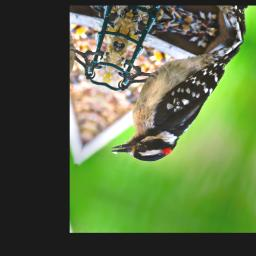Woodpecker: (92, 9, 244, 180)
